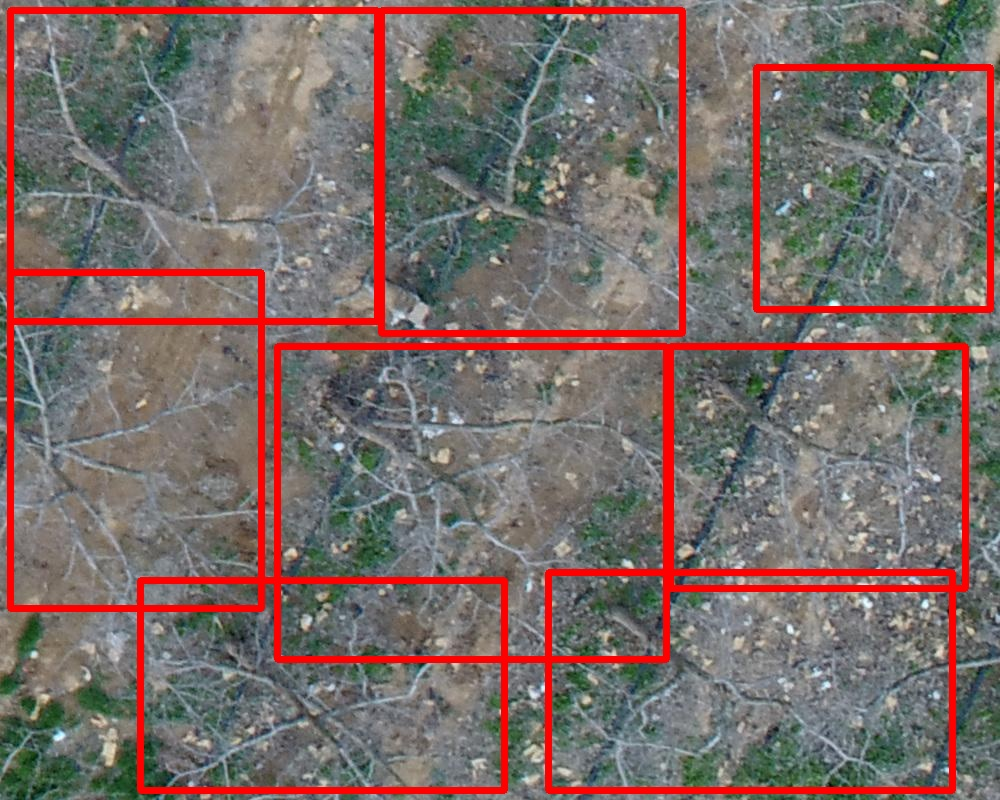apple: (277, 346, 666, 659), (10, 10, 377, 321), (381, 10, 682, 333), (548, 572, 952, 790), (10, 272, 261, 608), (140, 580, 504, 790), (670, 346, 965, 588), (756, 67, 990, 309)
